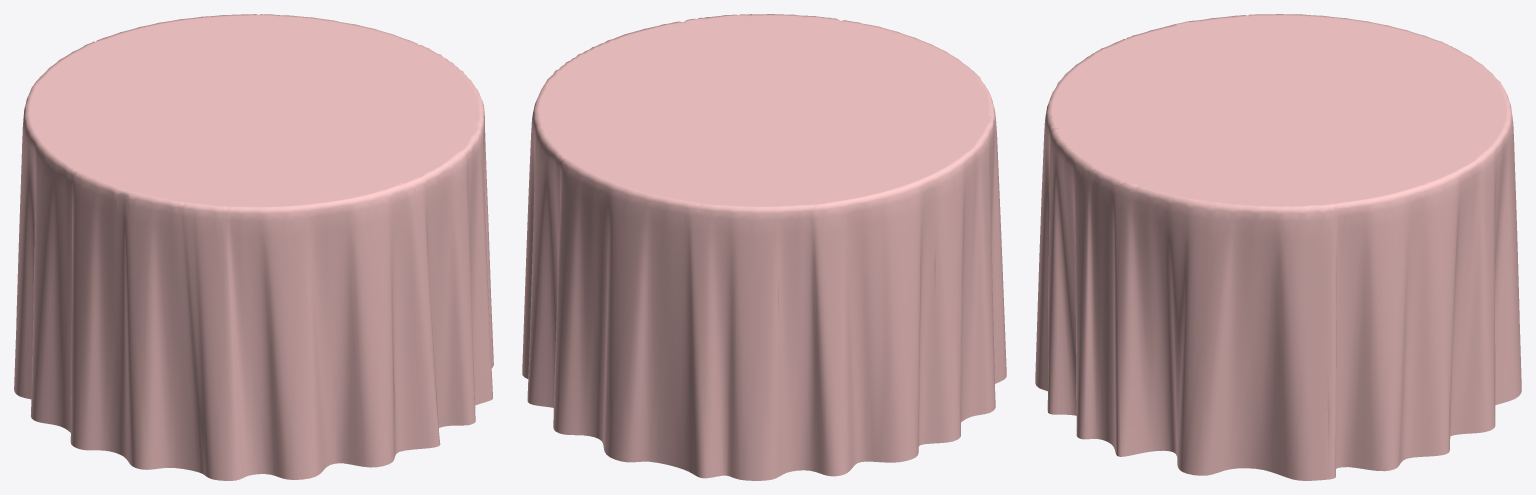
Rendered from mesa.glb.
The picture shows the model from 3 angles, left to right: view 1: azimuth 30°, elevation 25°; view 2: azimuth 150°, elevation 25°; view 3: azimuth 270°, elevation 25°; orthographic projection.
Visible parts, largest first — view 1: empty_2; view 2: empty_2; view 3: empty_2.
Part boxes in pixels (left/top/right/bottom): empty_2: left=14, top=14, right=493, bottom=480; empty_2: left=522, top=14, right=1006, bottom=480; empty_2: left=1035, top=14, right=1521, bottom=480.
Size of the model in its own units: 1.43 by 0.8783 by 1.44.
